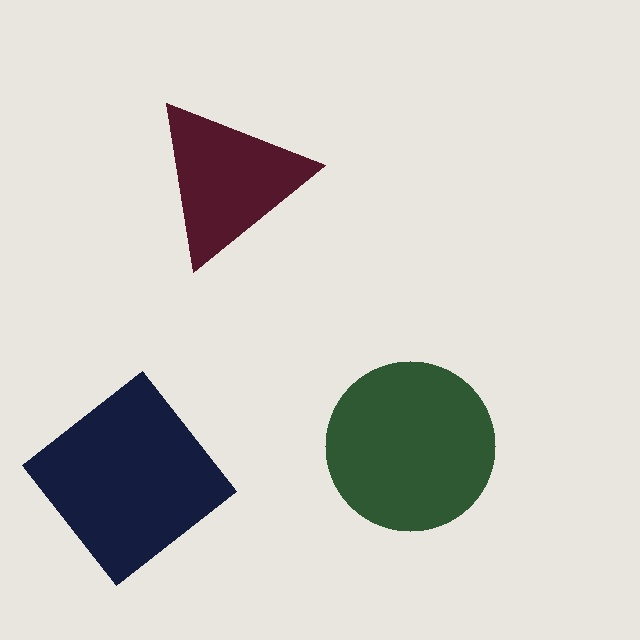circle: (324, 360, 496, 532)
square: (22, 370, 237, 586)
triangle: (166, 103, 326, 273)
